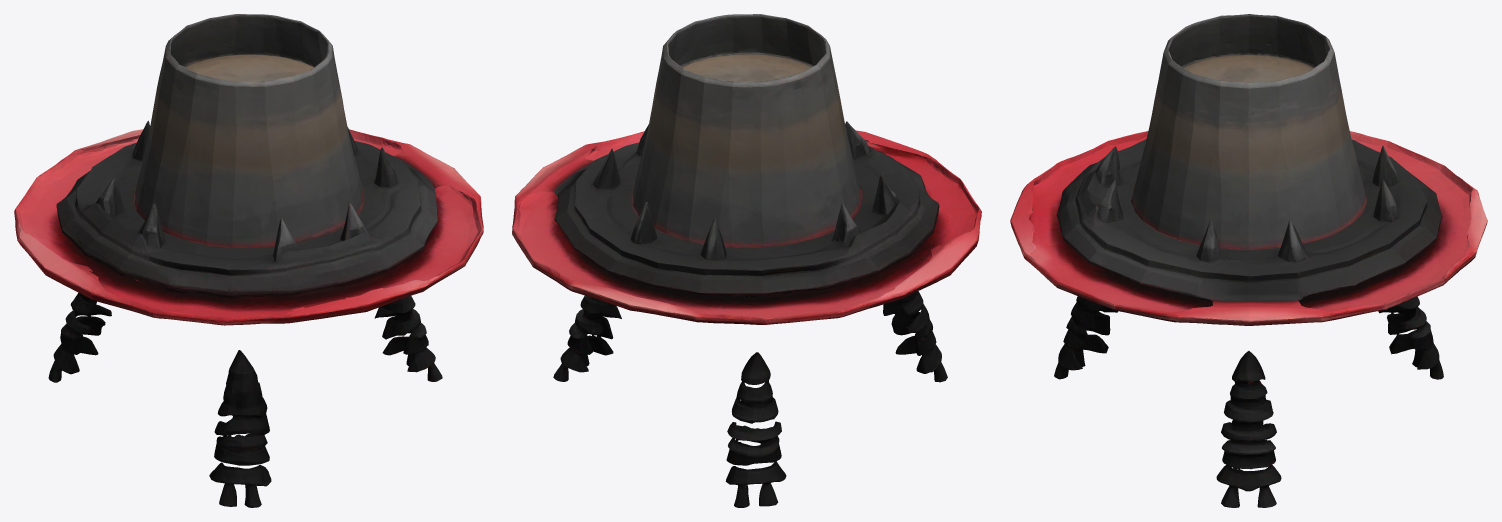
The model's file is voxhammer_t04.glb.
3 views of the same model, side by side, from view 1: azimuth 30°, elevation 25°; view 2: azimuth 150°, elevation 25°; view 3: azimuth 270°, elevation 25° (orthographic).
Parts seen in each view (by area): view 1: geometry_0; view 2: geometry_0; view 3: geometry_0.
Part boxes in pixels (x1,y1,x2,y2): geometry_0: (14, 14, 483, 507); geometry_0: (512, 14, 981, 507); geometry_0: (1010, 14, 1487, 507).
Size of the model in its own units: 2 by 1.72 by 2.
Materials: 1 (1 with a texture image).
